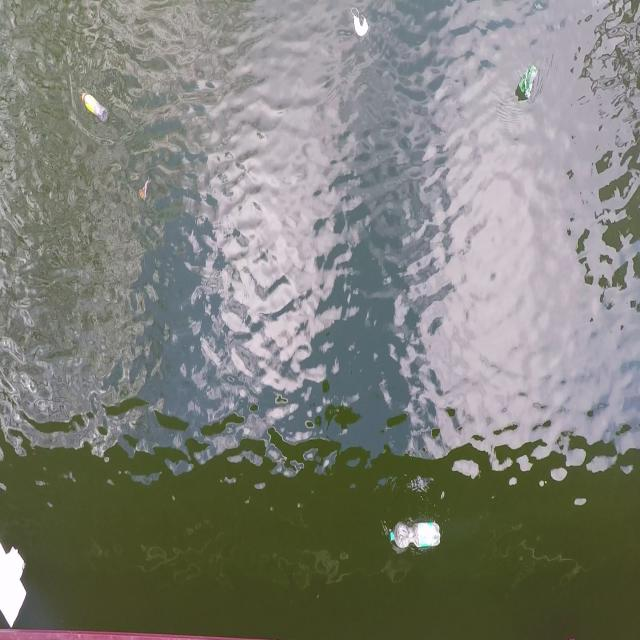Bouteille plastique: (388, 520, 442, 552), (81, 93, 110, 125)
Non plastique: (350, 7, 371, 43)
